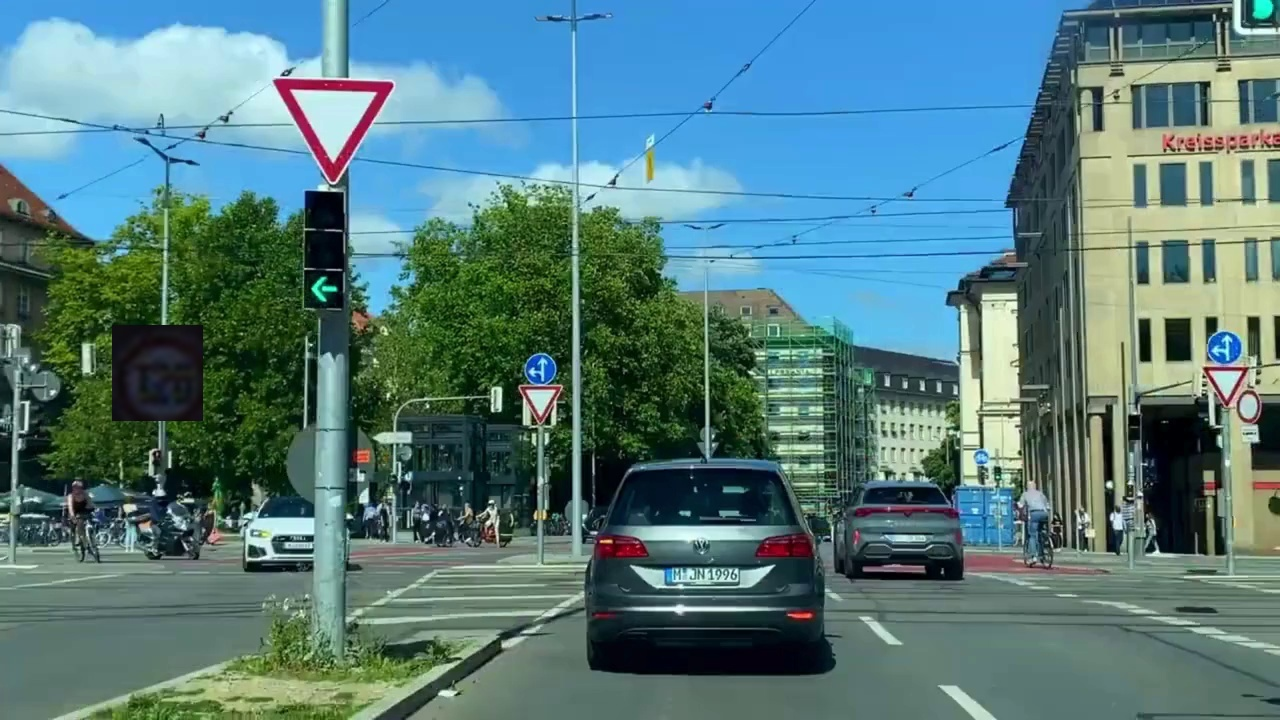Speed 120: (112, 325, 203, 421)
